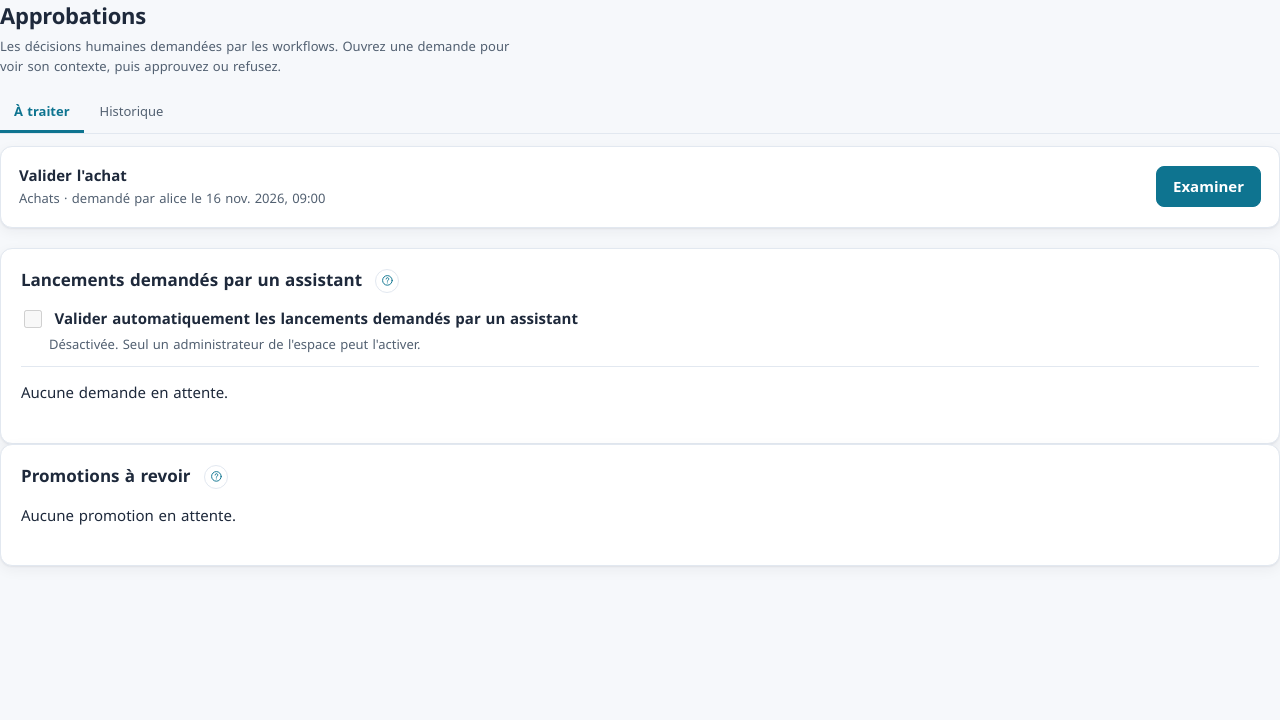
Approbations : fenêtre d'une demande › ne laisse pas décider de sa propre demande ni sans le droit d'approuver
The width and height of the screenshot is (1280, 720).
Click the button with aria-label "Examiner : Valider l'achat" at x=1208, y=187, box [1156,166,1261,207]
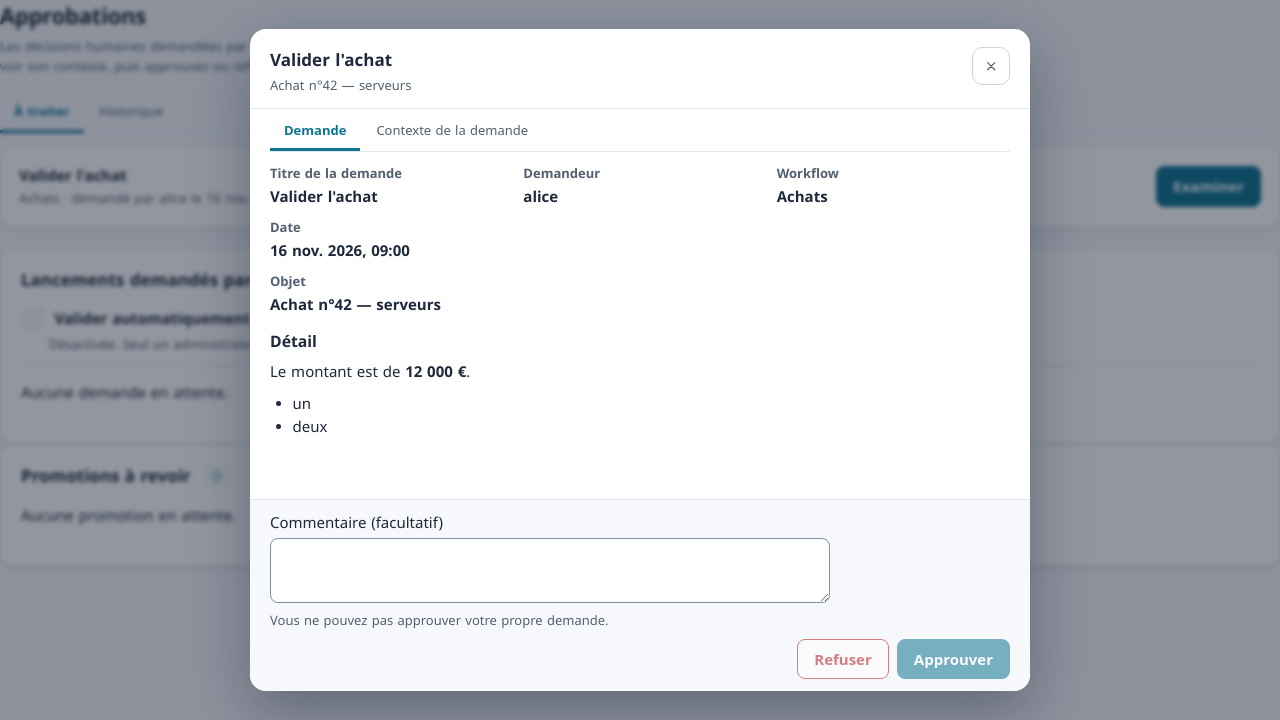
Result: the button "Approuver" is disabled at [897,639,1010,679]
Result: the text "Vous ne pouvez pas approuver votre propre demande." is shown at [270,611,608,629]
